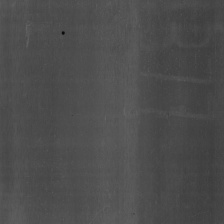inclusion: (59, 28, 66, 38)
